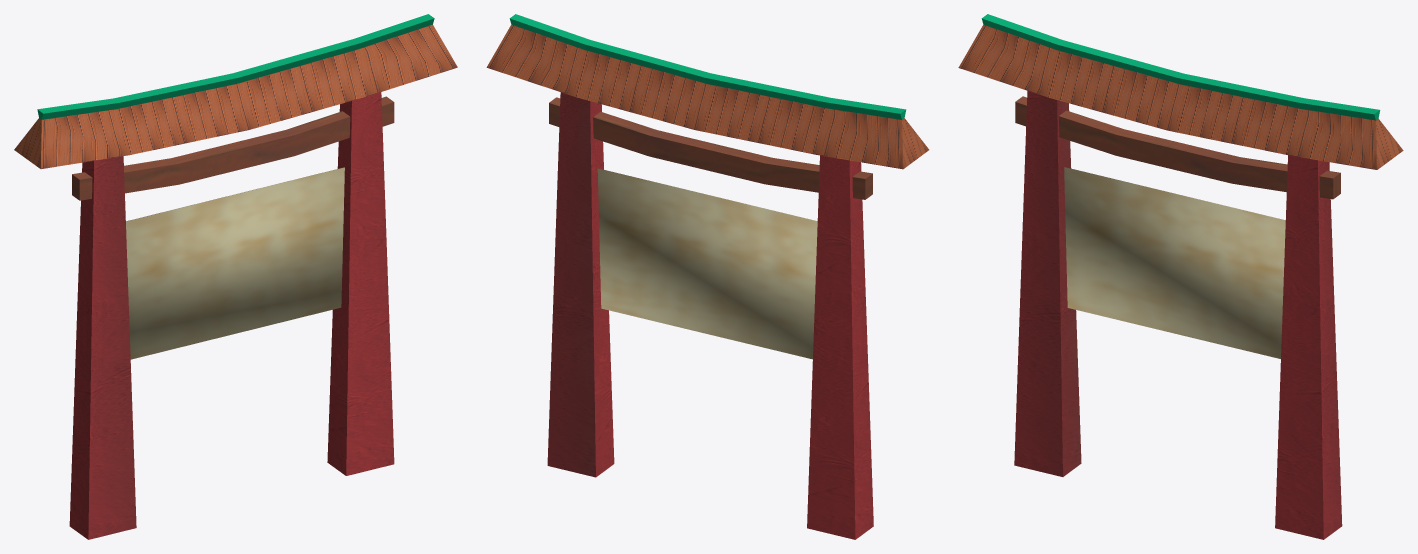
The model's file is lunar-year__ArchBanner.glb.
The picture shows the model from 3 angles, left to right: view 1: azimuth 30°, elevation 25°; view 2: azimuth 150°, elevation 25°; view 3: azimuth 330°, elevation 25°; orthographic projection.
Visible parts, largest first — view 1: ArchBanner; view 2: ArchBanner; view 3: ArchBanner.
Boxes of the visible parts, x1=… form: ArchBanner: x1=14, y1=14, x2=457, y2=539; ArchBanner: x1=486, y1=14, x2=929, y2=539; ArchBanner: x1=958, y1=14, x2=1403, y2=539.
Size of the model in its own units: 5.2 by 5.13 by 0.5899.
Materials: 3 (2 with a texture image).
